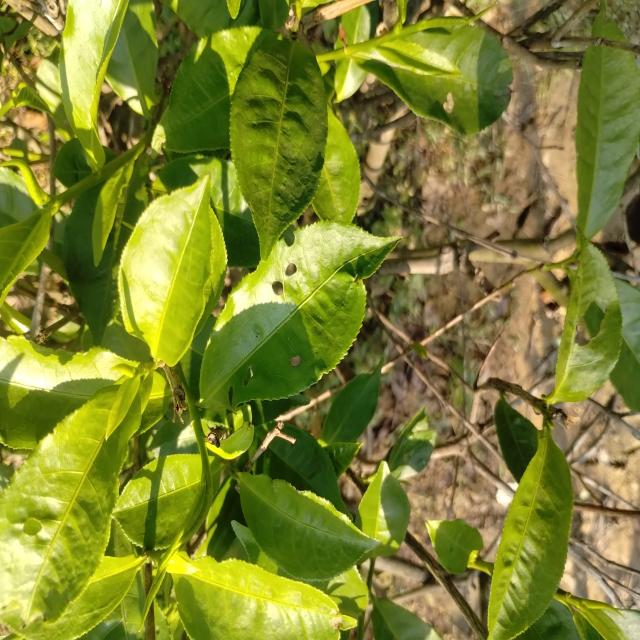Leaf: (199, 221, 399, 409), (0, 386, 138, 622), (230, 31, 327, 259), (118, 178, 224, 365), (349, 17, 512, 133), (488, 426, 573, 640), (168, 552, 355, 640), (0, 335, 138, 449), (237, 472, 381, 581), (63, 161, 148, 345), (161, 26, 262, 153), (548, 231, 622, 402), (575, 46, 640, 238), (153, 156, 260, 267), (59, 0, 128, 170), (20, 555, 143, 640), (113, 454, 201, 549), (256, 425, 348, 513), (106, 0, 158, 117), (312, 107, 360, 223), (0, 207, 55, 305), (355, 461, 410, 558), (320, 359, 382, 444), (92, 162, 132, 266), (610, 280, 640, 411), (494, 397, 538, 483), (161, 0, 260, 37), (386, 408, 436, 480), (425, 519, 482, 574), (372, 596, 441, 640), (335, 2, 378, 50), (52, 139, 91, 187), (206, 422, 253, 459), (592, 0, 626, 43), (335, 58, 367, 101), (143, 375, 169, 426), (12, 83, 50, 113), (282, 226, 294, 244)
